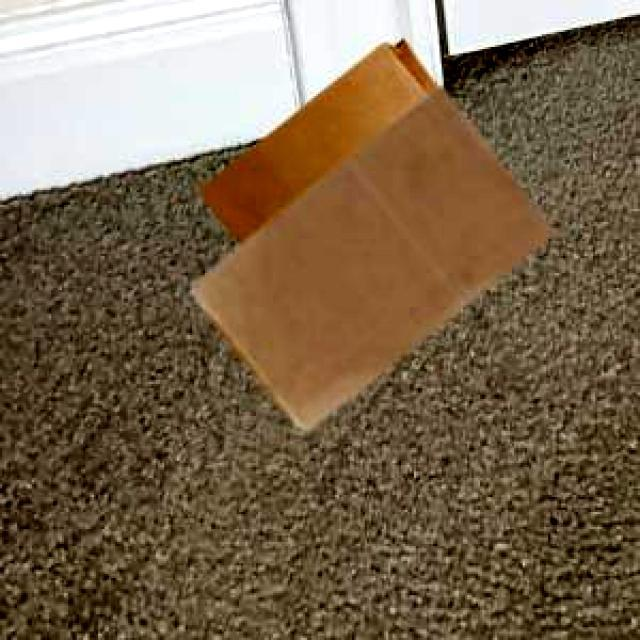Paper_Bag: (190, 87, 550, 426), (195, 37, 436, 242)
